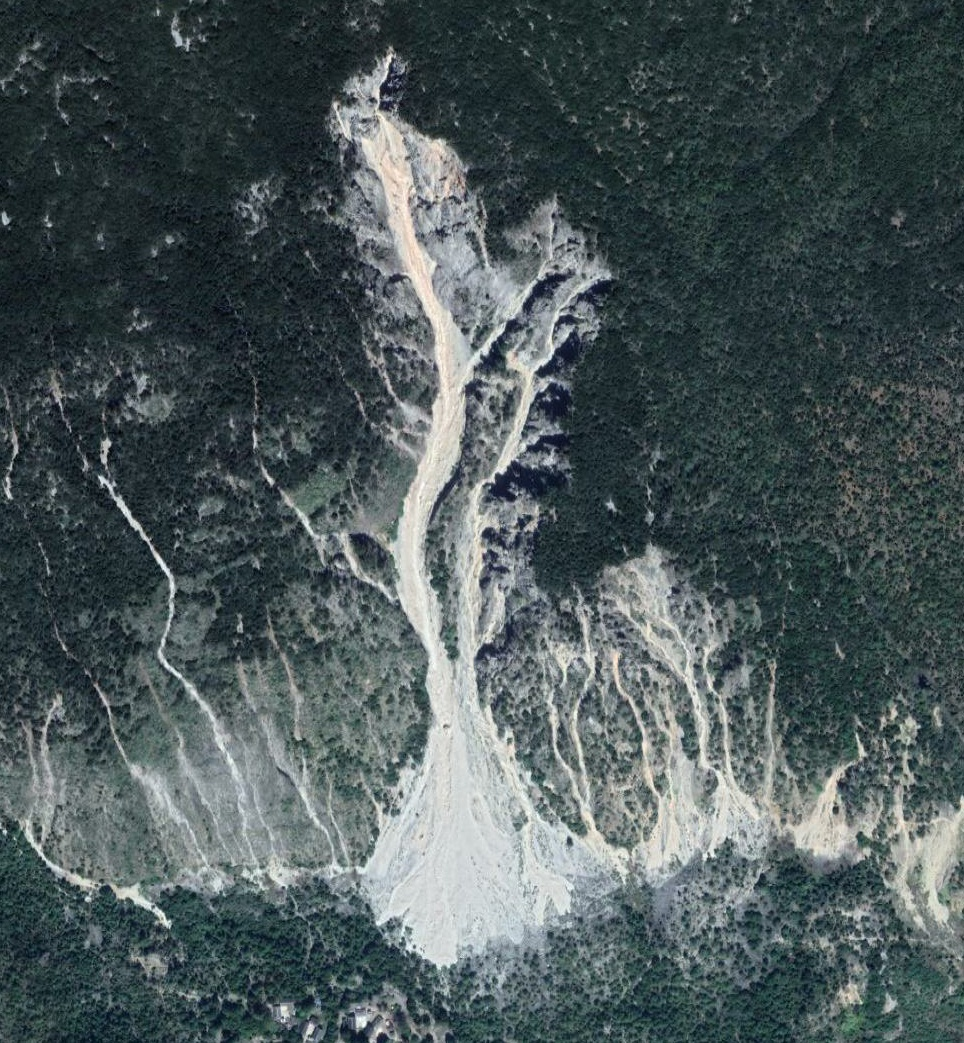slope: (326, 43, 963, 973)
